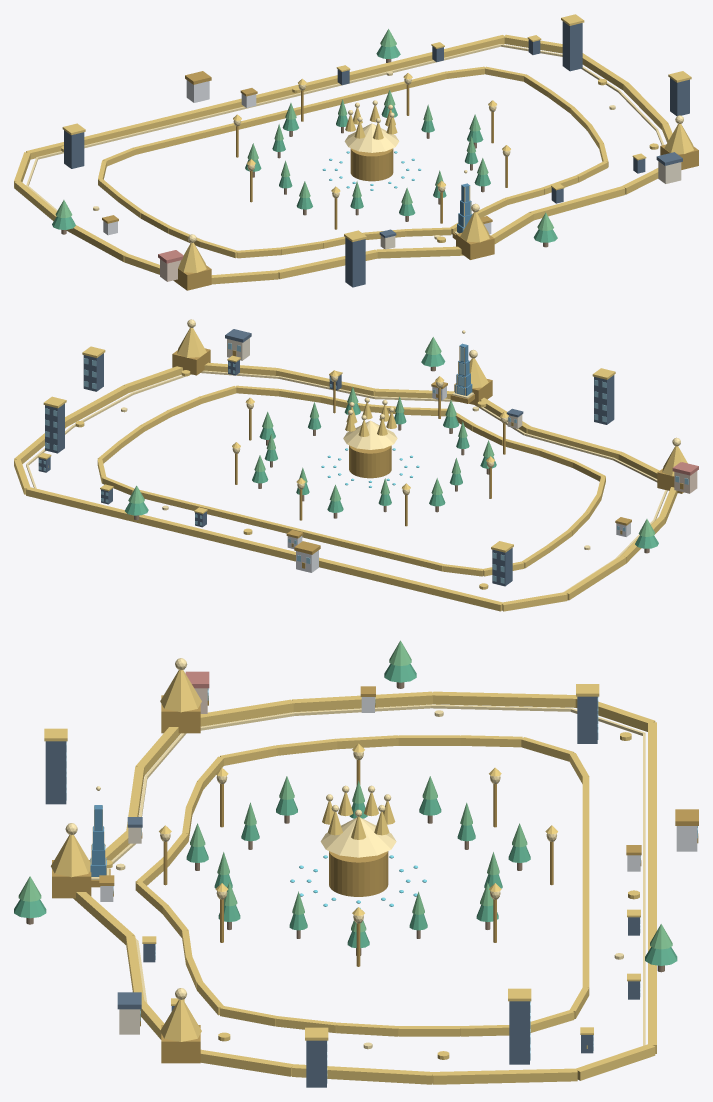
The model's file is environment_detail.glb.
3 renders of one model, top to bottom at view 1: azimuth 30°, elevation 25°; view 2: azimuth 150°, elevation 25°; view 3: azimuth 270°, elevation 25°, orthographic. The views are drawn at different scales.
Parts seen in each view (by area): view 1: DECOR_PERIMETER_GOLD, DECOR_INNER_RAIL_GOLD, DECOR_OFFICE_NAVY, DECOR_TREES_TREE, DECOR_PERIMETER_GOLD_LIGHT, DECOR_TREES_TREE_ALT, DECOR_CROWN_GATE_GOLD, DECOR_CROWN_GATE_GOLD_DARK, DECOR_FOUNTAINSTATUE_GOLD_DARK, DECOR_OFFICE_GOLD, DECOR_FOUNTAINSTATUE_GOLD_LIGHT, DECOR_HOUSES_PLATINUM (+5 smaller); view 2: DECOR_PERIMETER_GOLD, DECOR_INNER_RAIL_GOLD, DECOR_OFFICE_NAVY, DECOR_TREES_TREE, DECOR_PERIMETER_GOLD_LIGHT, DECOR_TREES_TREE_ALT, DECOR_CROWN_GATE_GOLD, DECOR_CROWN_GATE_GOLD_DARK, DECOR_FOUNTAINSTATUE_GOLD_DARK, DECOR_OFFICEGLASS_GLASS, DECOR_OFFICE_GOLD, DECOR_FOUNTAINSTATUE_GOLD_LIGHT (+6 smaller); view 3: DECOR_PERIMETER_GOLD, DECOR_INNER_RAIL_GOLD, DECOR_OFFICE_NAVY, DECOR_TREES_TREE, DECOR_TREES_TREE_ALT, DECOR_PERIMETER_GOLD_LIGHT, DECOR_CROWN_GATE_GOLD, DECOR_CROWN_GATE_GOLD_DARK, DECOR_FOUNTAINSTATUE_GOLD_DARK, DECOR_OFFICE_GOLD, DECOR_FOUNTAINSTATUE_GOLD_LIGHT, DECOR_CROWN_POINTS_GOLD (+5 smaller).
Part boxes in pixels (x1,y1,x2,y2): DECOR_PERIMETER_GOLD: (14,34,672,284); DECOR_INNER_RAIL_GOLD: (98,66,608,258); DECOR_OFFICE_NAVY: (64,21,689,287); DECOR_TREES_TREE: (52,45,557,242); DECOR_PERIMETER_GOLD_LIGHT: (26,44,664,211); DECOR_TREES_TREE_ALT: (55,29,553,230); DECOR_CROWN_GATE_GOLD: (178,124,693,272); DECOR_CROWN_GATE_GOLD_DARK: (173,144,698,290); DECOR_FOUNTAINSTATUE_GOLD_DARK: (350,148,393,181); DECOR_OFFICE_GOLD: (62,14,691,241); DECOR_FOUNTAINSTATUE_GOLD_LIGHT: (344,123,399,152); DECOR_HOUSES_PLATINUM: (103,80,491,235); DECOR_PERIMETER_GOLD: (14,362,677,611); DECOR_INNER_RAIL_GOLD: (97,385,605,576); DECOR_OFFICE_NAVY: (38,353,614,586); DECOR_TREES_TREE: (125,353,658,548); DECOR_PERIMETER_GOLD_LIGHT: (26,370,667,592); DECOR_TREES_TREE_ALT: (128,337,655,536); DECOR_CROWN_GATE_GOLD: (177,327,687,476); DECOR_CROWN_GATE_GOLD_DARK: (172,348,683,493); DECOR_FOUNTAINSTATUE_GOLD_DARK: (349,445,391,478); DECOR_OFFICEGLASS_GLASS: (38,358,606,583); DECOR_OFFICE_GOLD: (38,346,615,552); DECOR_FOUNTAINSTATUE_GOLD_LIGHT: (343,420,397,449); DECOR_PERIMETER_GOLD: (73,691,656,1084); DECOR_INNER_RAIL_GOLD: (135,735,589,1036); DECOR_OFFICE_NAVY: (45,696,639,1087); DECOR_TREES_TREE: (14,663,677,965); DECOR_TREES_TREE_ALT: (18,640,672,949); DECOR_PERIMETER_GOLD_LIGHT: (111,704,645,1045); DECOR_CROWN_GATE_GOLD: (51,670,201,1041); DECOR_CROWN_GATE_GOLD_DARK: (52,695,200,1063); DECOR_FOUNTAINSTATUE_GOLD_DARK: (329,851,388,896); DECOR_OFFICE_GOLD: (44,684,640,1040); DECOR_FOUNTAINSTATUE_GOLD_LIGHT: (320,817,396,857); DECOR_CROWN_POINTS_GOLD: (322,793,395,839).
Bounding box in the file's own units: 23.41 × 2.84 × 16.59.
